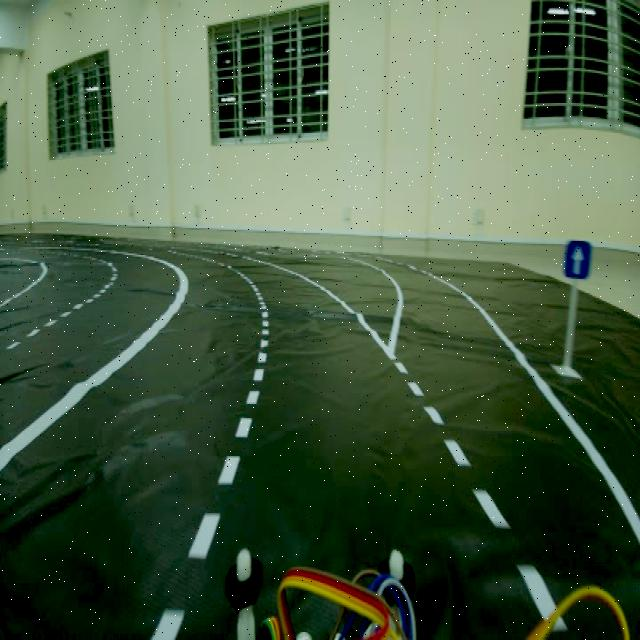onewayroad: (561, 226, 595, 292)
